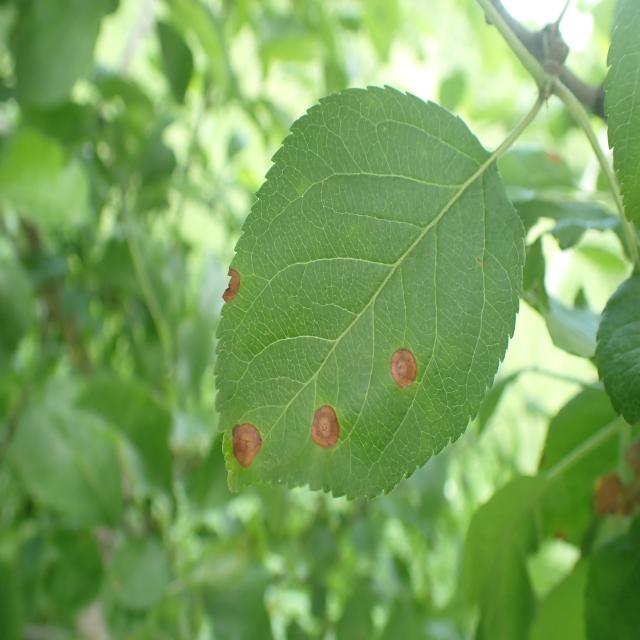Black Rot: (292, 393, 349, 461), (222, 411, 268, 481), (373, 343, 425, 401), (210, 262, 252, 322)
